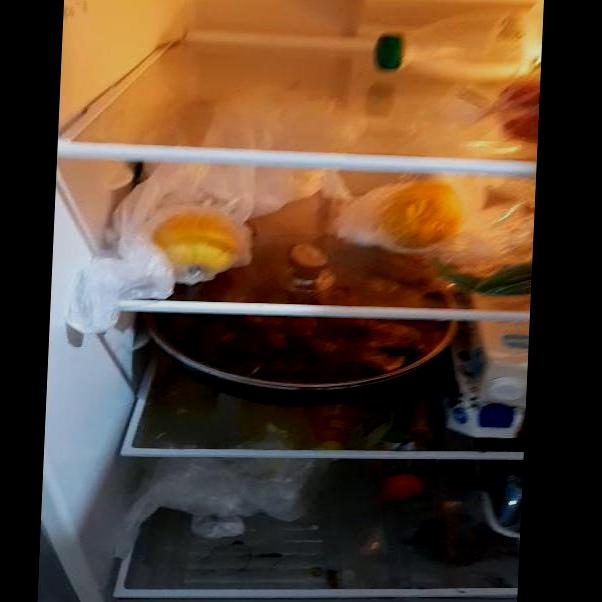lemon: (153, 210, 241, 279), (380, 183, 469, 248)
milk: (447, 321, 527, 434)
